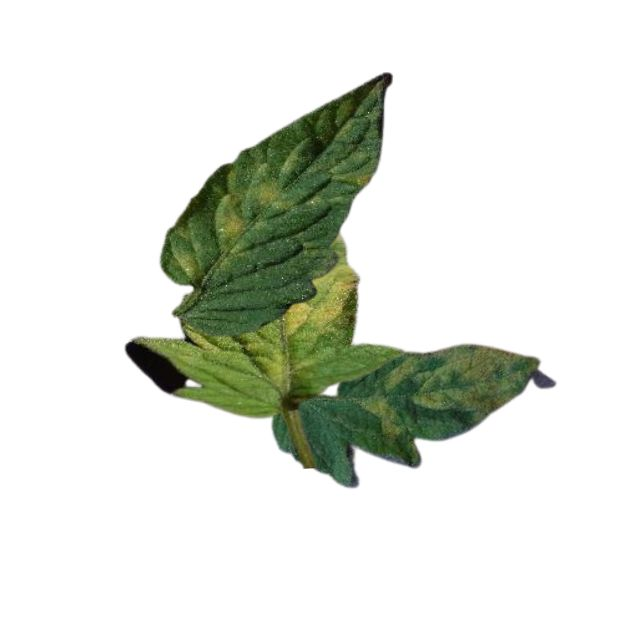Leaf_Mold: (364, 343, 540, 466), (282, 232, 361, 344), (209, 167, 290, 252), (166, 222, 206, 283)
